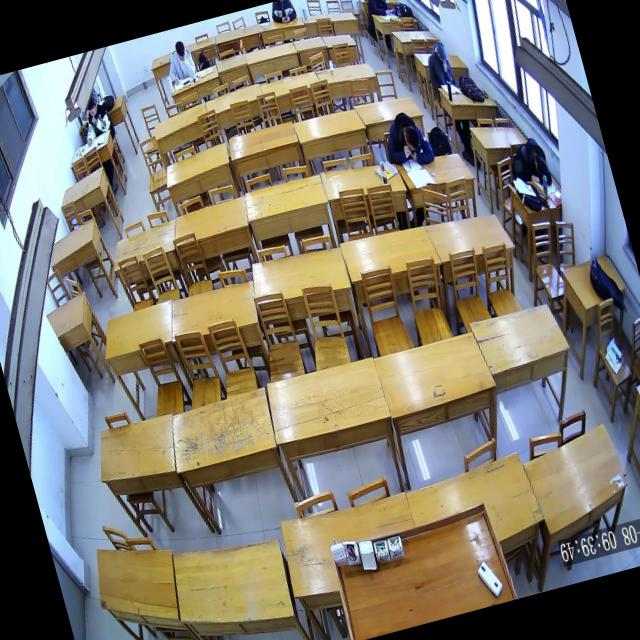bow: (377, 104, 435, 172), (506, 134, 552, 192)
down: (402, 122, 422, 152), (434, 41, 448, 62), (84, 97, 98, 117), (173, 40, 187, 60)
sit: (76, 94, 116, 144), (420, 40, 456, 92), (161, 38, 198, 86), (363, 0, 396, 20)
